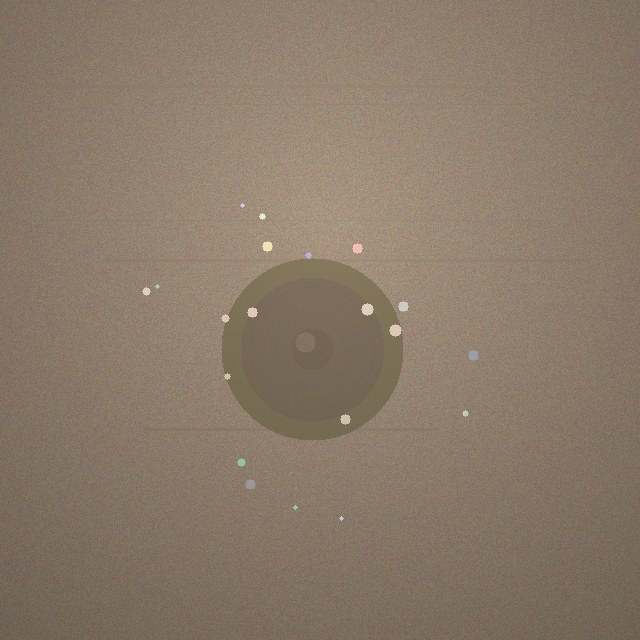overburn: (221, 258, 403, 440)
